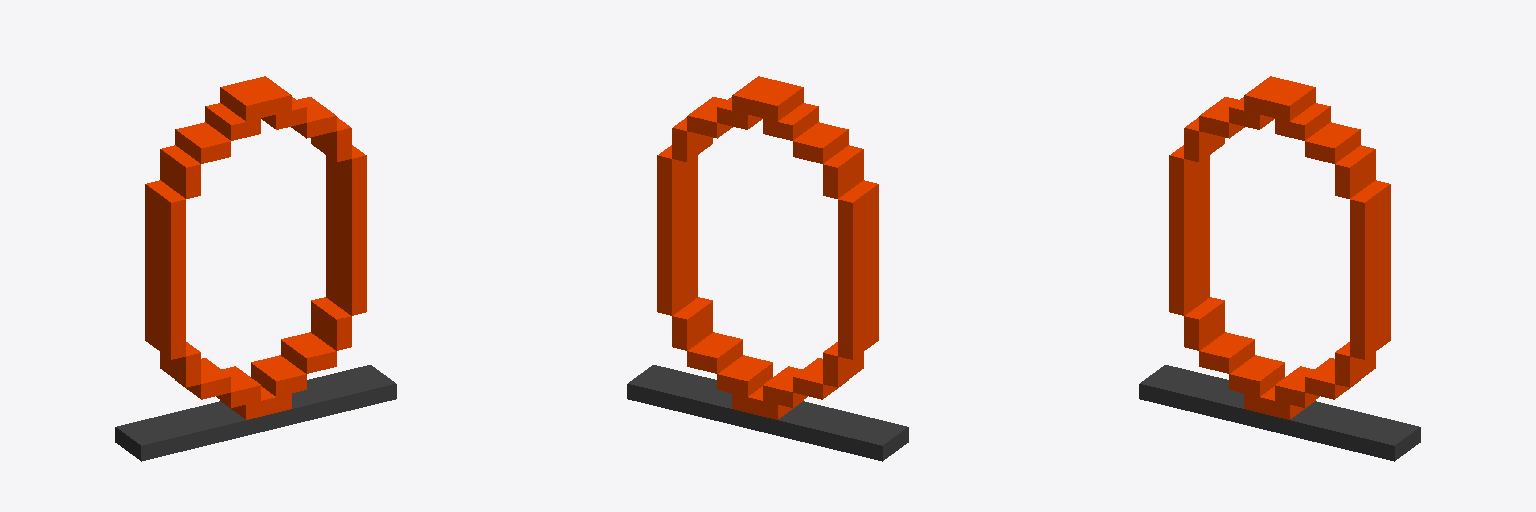
The picture shows the model from 3 angles: view 1: azimuth 30°, elevation 25°; view 2: azimuth 150°, elevation 25°; view 3: azimuth 330°, elevation 25°; orthographic projection.
Parts seen in each view (by area): view 1: PortalAInstanceModel; view 2: PortalAInstanceModel; view 3: PortalAInstanceModel.
Boxes of the visible parts, x1=… form: PortalAInstanceModel: x1=115, y1=76, x2=396, y2=461; PortalAInstanceModel: x1=627, y1=76, x2=908, y2=461; PortalAInstanceModel: x1=1139, y1=76, x2=1420, y2=461.
Size of the model in its own units: 17 by 21 by 3.
1 materials, 1 textured.